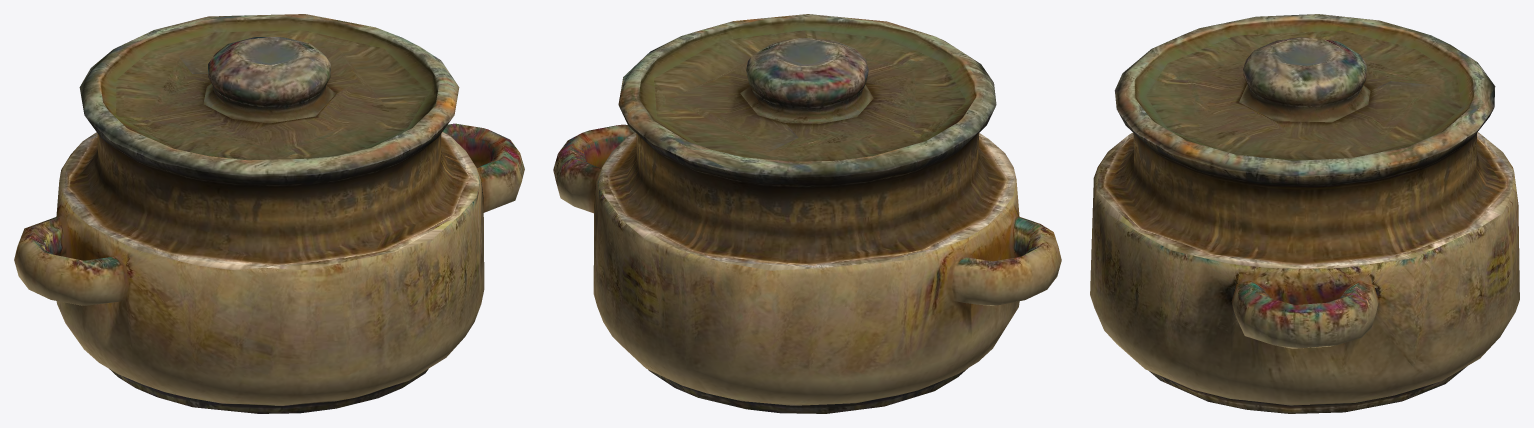
Rendered from ceramic_pot.glb.
3 views of the same model, side by side, from view 1: azimuth 30°, elevation 25°; view 2: azimuth 150°, elevation 25°; view 3: azimuth 270°, elevation 25° (orthographic).
Visible parts, largest first — view 1: lod0; view 2: lod0; view 3: lod0.
Part boxes in pixels (x1,y1,x2,y2): lod0: (14,14,524,413); lod0: (553,14,1061,413); lod0: (1090,14,1519,413).
Size of what is drawn, in the model's own units: 0.6563 by 0.3711 by 0.5012.
1 material, 1 textured.
